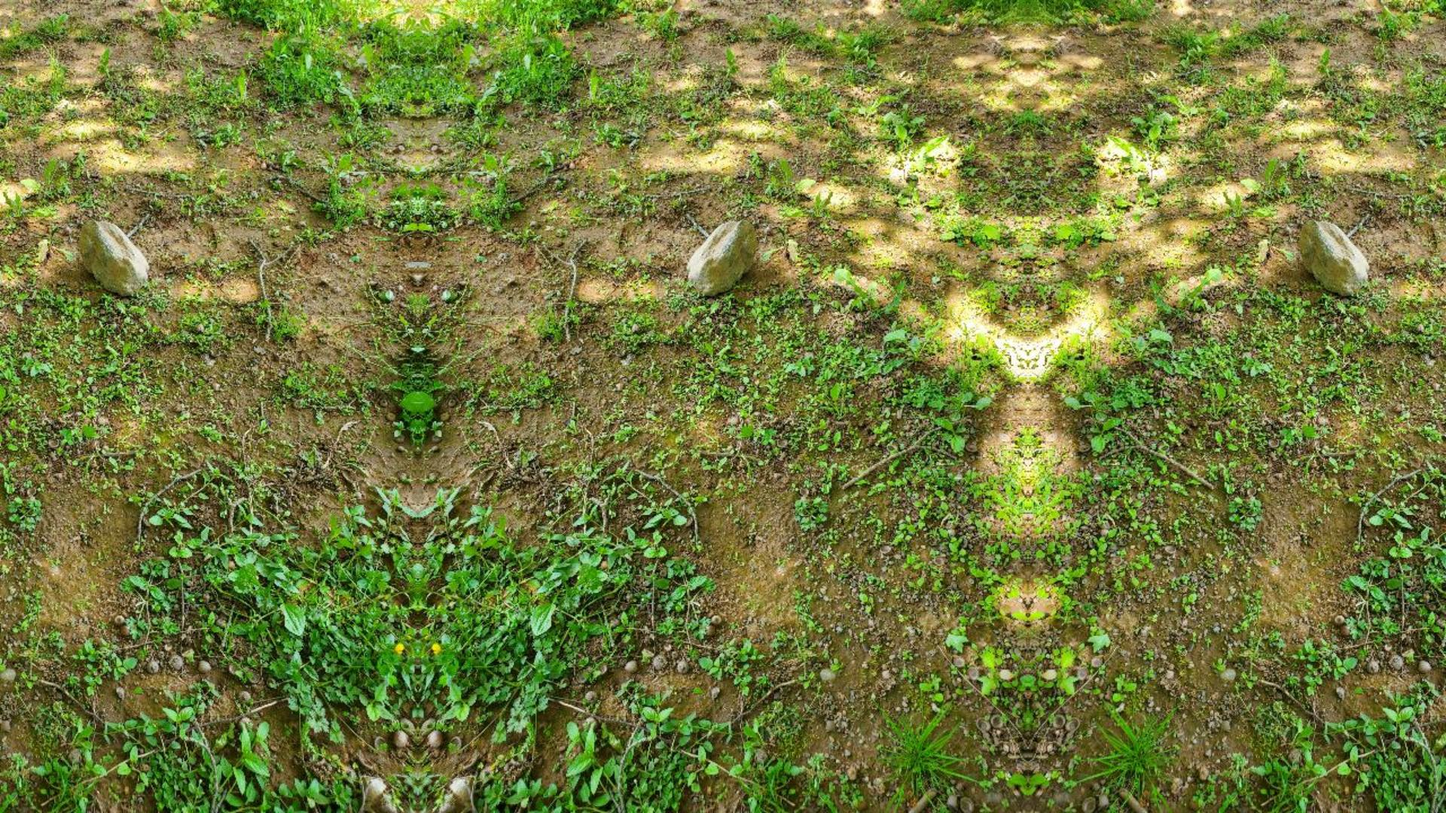rock: (687, 220, 756, 294), (79, 221, 148, 294), (1299, 221, 1367, 294)
